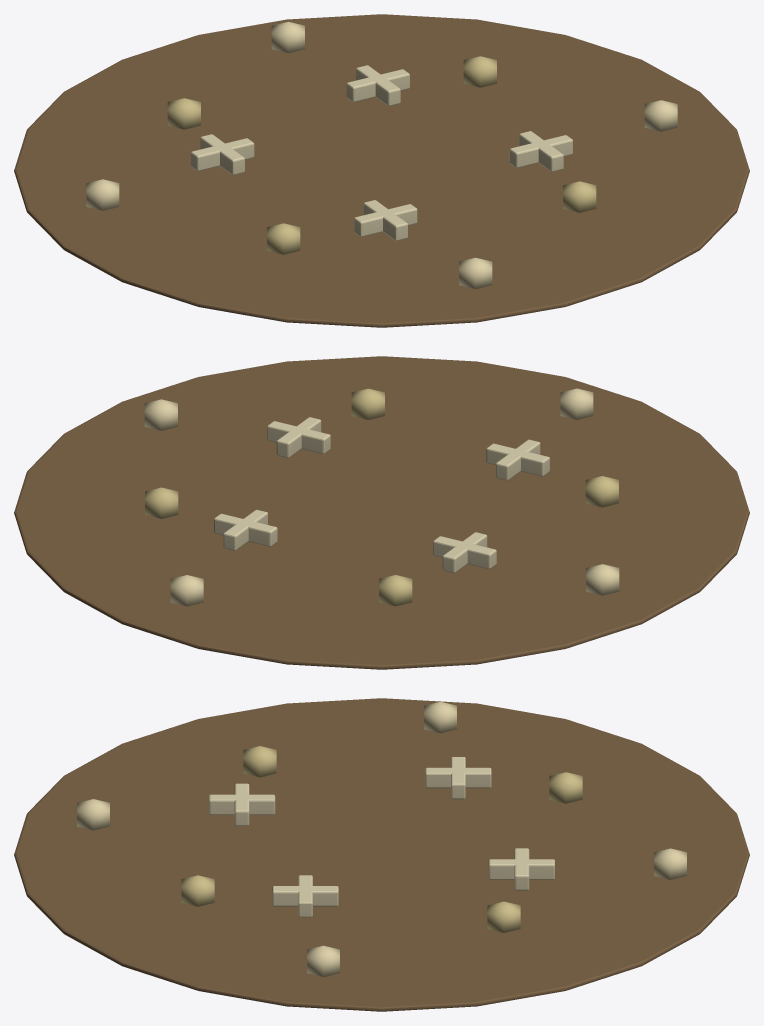
The model's file is fertilized_mark.glb.
3 views of the same model, one above another, from view 1: azimuth 30°, elevation 25°; view 2: azimuth 150°, elevation 25°; view 3: azimuth 270°, elevation 25° (orthographic).
Size of the model in its own units: 0.3 by 0.015 by 0.3.
